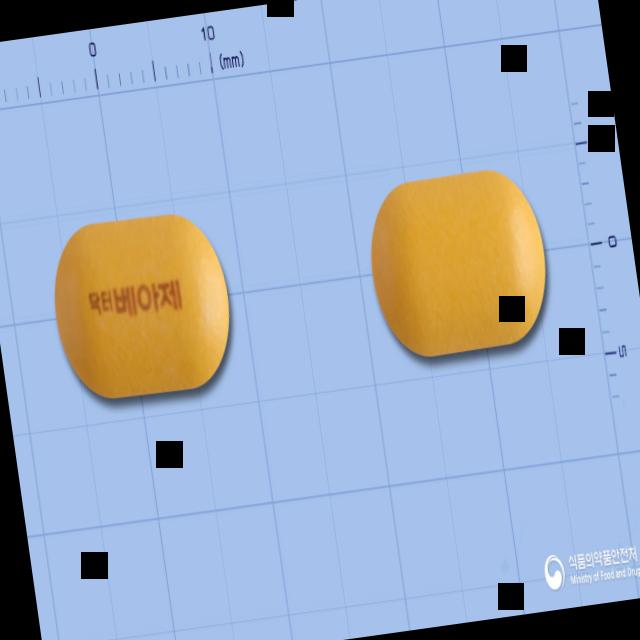Cipoxcin: (44, 206, 240, 408), (360, 163, 557, 363)
